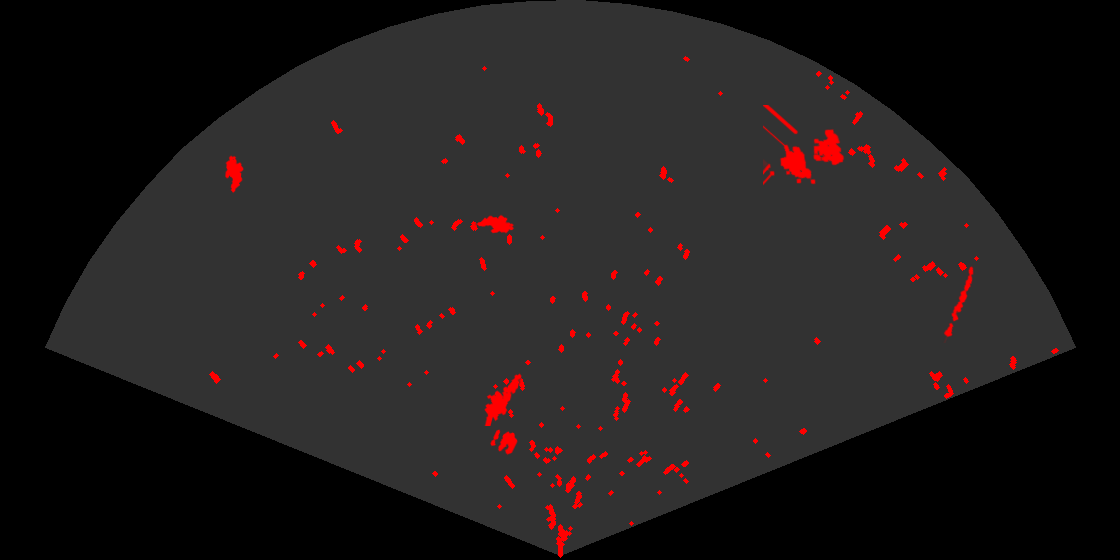AUV: (475, 213, 516, 235), (224, 154, 245, 195)
ball: (489, 428, 519, 457)
cage: (763, 105, 846, 187)
chain: (942, 264, 975, 343)
frogman: (483, 371, 523, 426)
